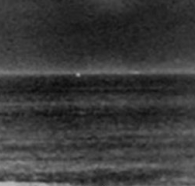dim target: (74, 71, 82, 77)
